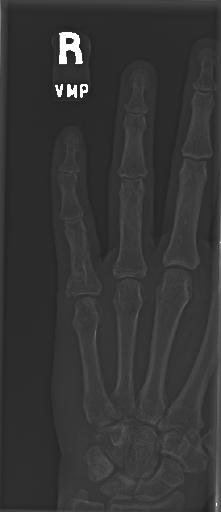fractured: (61, 280, 76, 302)
